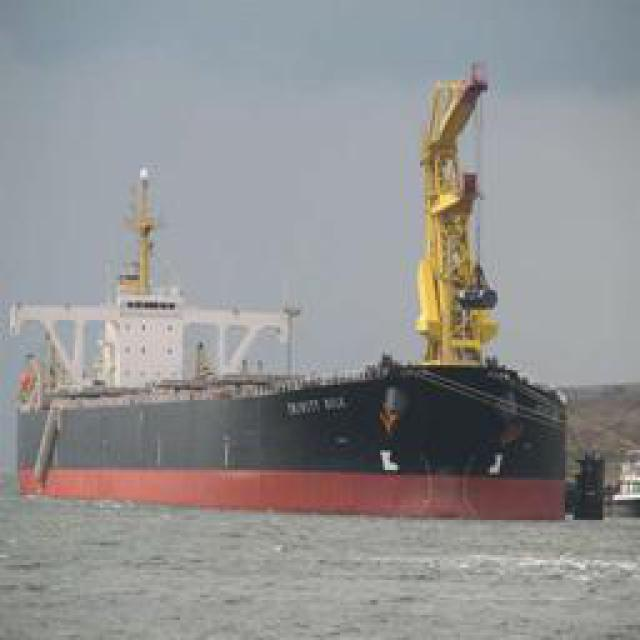Ship: (1, 63, 585, 530)
